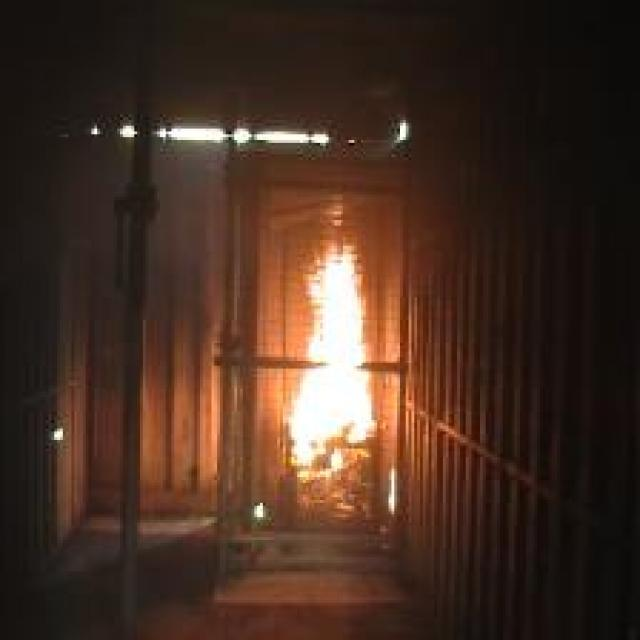Fire: (290, 196, 376, 482)
